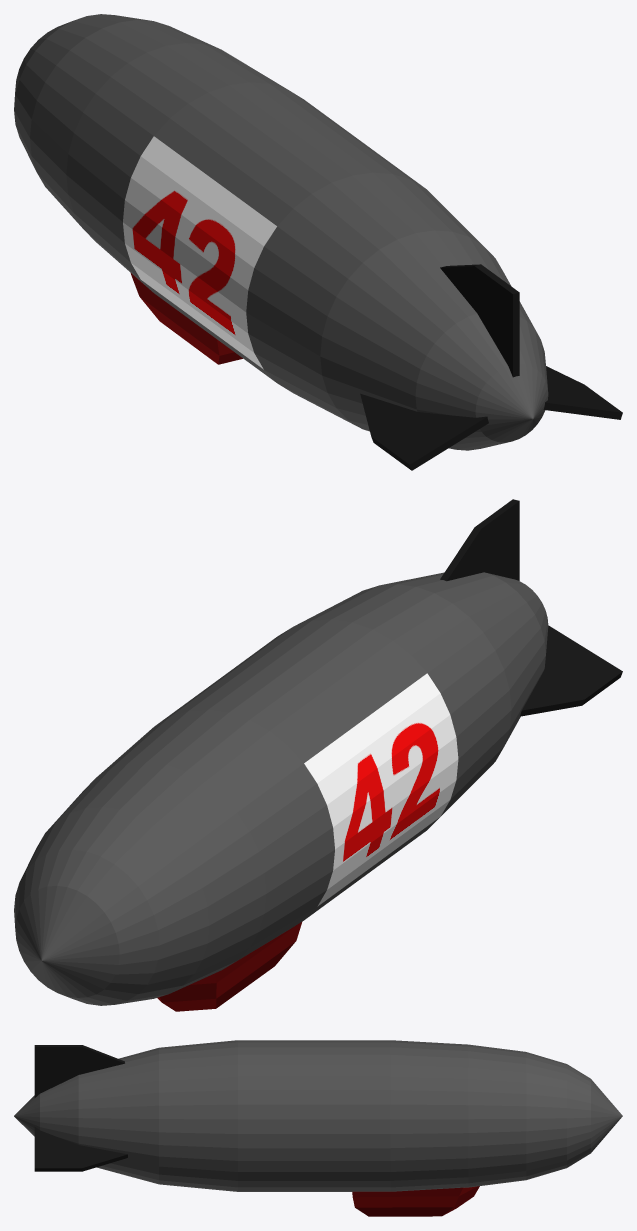
The model's file is Zeppelin.obj.
The picture shows the model from 3 angles, top to bottom: view 1: azimuth 30°, elevation 25°; view 2: azimuth 150°, elevation 25°; view 3: azimuth 270°, elevation 25°; orthographic projection. The views are drawn at different scales.
Visible parts, largest first — view 1: Cone, Cube.002_Cube.003, Cube.001_Cube.002, Cube_Cube.001; view 2: Cone, Cube.002_Cube.003, Cube.001_Cube.002, Cube_Cube.001; view 3: Cone, Cube_Cube.001, Cube.001_Cube.002, Cube.002_Cube.003.
Boxes of the visible parts, x1=… form: Cone: x1=14, y1=14, x2=548, y2=450; Cube.002_Cube.003: x1=360, y1=366, x2=622, y2=470; Cube.001_Cube.002: x1=440, y1=264, x2=519, y2=377; Cube_Cube.001: x1=130, y1=273, x2=242, y2=364; Cone: x1=14, y1=572, x2=548, y2=1005; Cube.002_Cube.003: x1=520, y1=625, x2=622, y2=716; Cube.001_Cube.002: x1=440, y1=499, x2=519, y2=581; Cube_Cube.001: x1=157, y1=921, x2=302, y2=1011; Cone: x1=14, y1=1040, x2=622, y2=1191; Cube_Cube.001: x1=352, y1=1186, x2=479, y2=1216; Cube.001_Cube.002: x1=34, y1=1045, x2=124, y2=1097; Cube.002_Cube.003: x1=34, y1=1127, x2=127, y2=1171.
Size of the model in its own units: 3.9 by 4.58 by 15.55.
